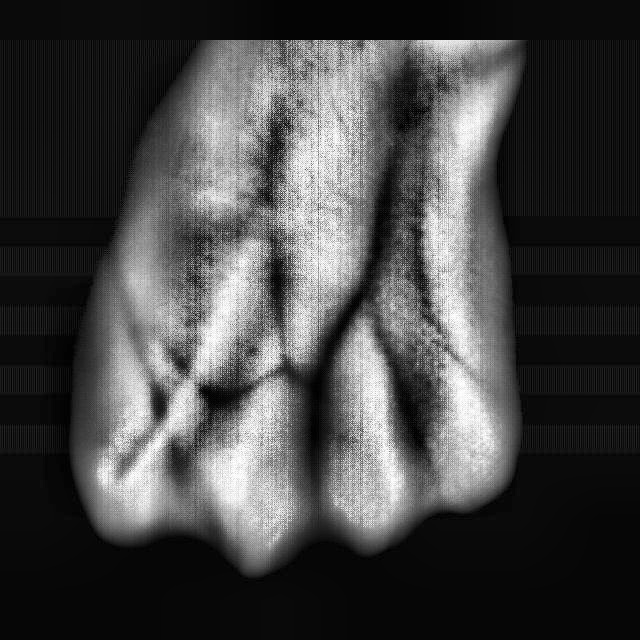Vein: (342, 102, 427, 307)
